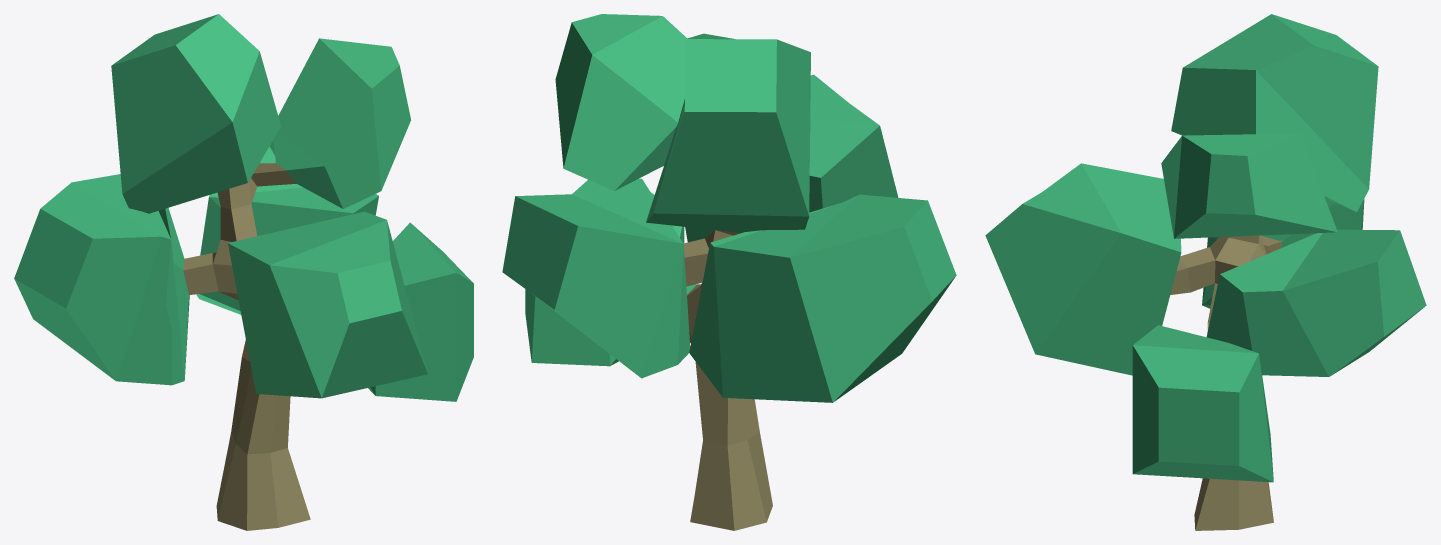
File: tree1.fbx
The picture shows the model from 3 angles, left to right: view 1: azimuth 30°, elevation 25°; view 2: azimuth 150°, elevation 25°; view 3: azimuth 270°, elevation 25°; orthographic projection. The views are drawn at different scales.
Visible parts, largest first — view 1: Cube; view 2: Cube; view 3: Cube.
Part boxes in pixels (x1,y1,x2,y2): Cube: (14, 14, 473, 530); Cube: (502, 14, 956, 530); Cube: (985, 14, 1426, 530).
Bounding box in the file's own units: 598 × 664 × 565.
